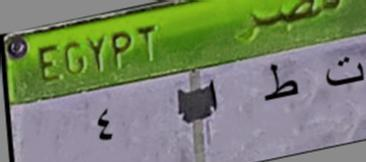4: (88, 98, 118, 148)
Taa: (264, 55, 300, 110)
alif: (202, 74, 224, 116)
taa: (318, 53, 366, 94)
